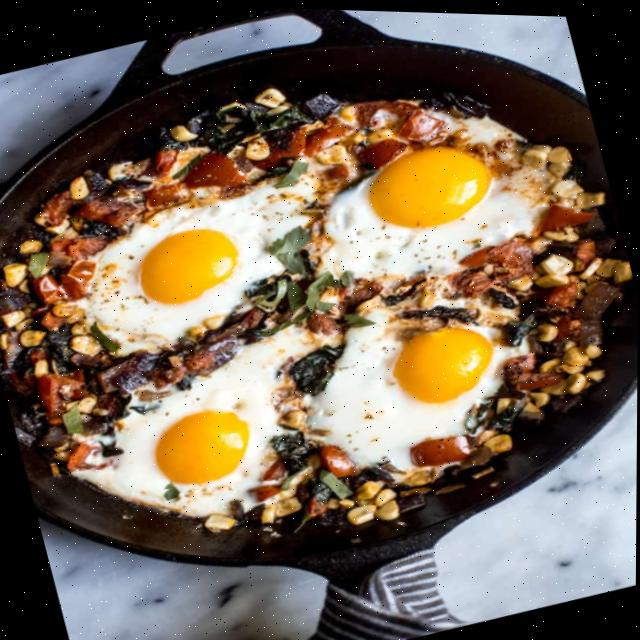Egg: (82, 168, 317, 355), (322, 107, 557, 277), (309, 295, 528, 466), (117, 325, 315, 513)
